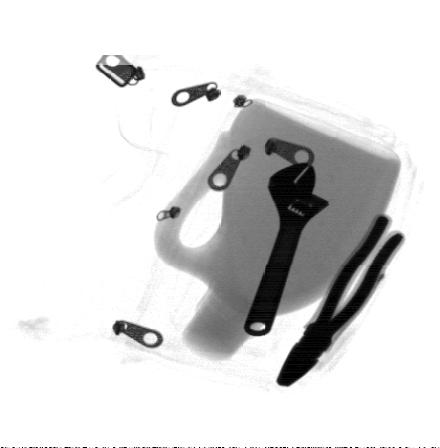Pliers: (276, 216, 406, 390)
Wrench: (244, 159, 333, 335)
